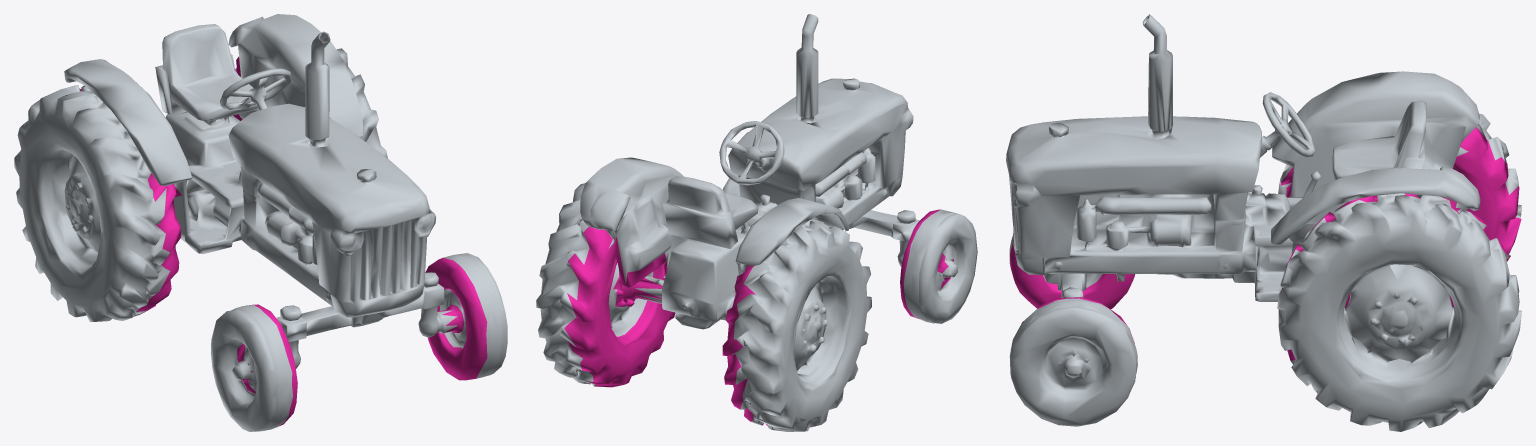
The model's file is tractor.glb.
The picture shows the model from 3 angles, left to right: view 1: azimuth 30°, elevation 25°; view 2: azimuth 150°, elevation 25°; view 3: azimuth 270°, elevation 25°; orthographic projection. The views are drawn at different scales.
Parts seen in each view (by area): view 1: original; view 2: original; view 3: original.
Boxes of the visible parts, x1,y1,x2,y2 form: original: [14, 14, 507, 431]; original: [536, 14, 977, 431]; original: [1006, 14, 1521, 431].
Bounding box in the file's own units: 0.6306 × 0.7605 × 1.
